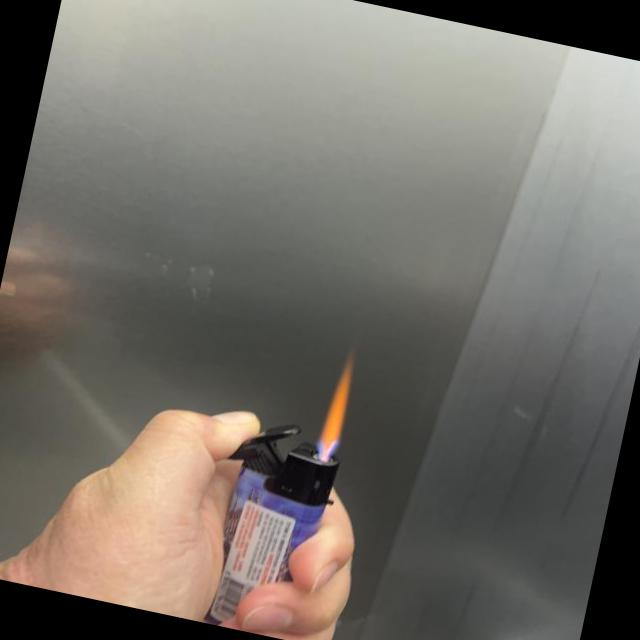Fire: (314, 355, 361, 458)
